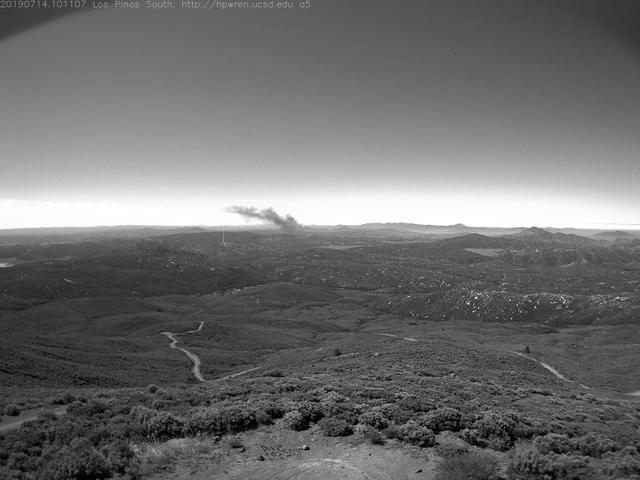smoke: (224, 202, 304, 244)
